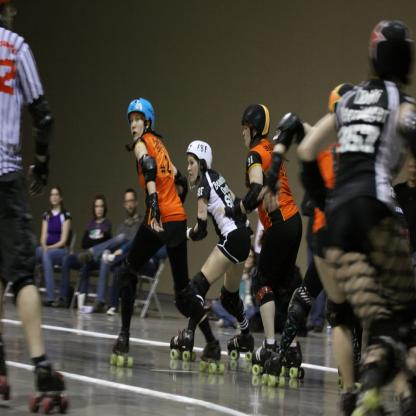Helmet: (365, 18, 416, 89), (125, 95, 163, 152), (241, 102, 269, 154), (184, 138, 212, 189), (327, 79, 353, 112), (0, 0, 17, 34)
